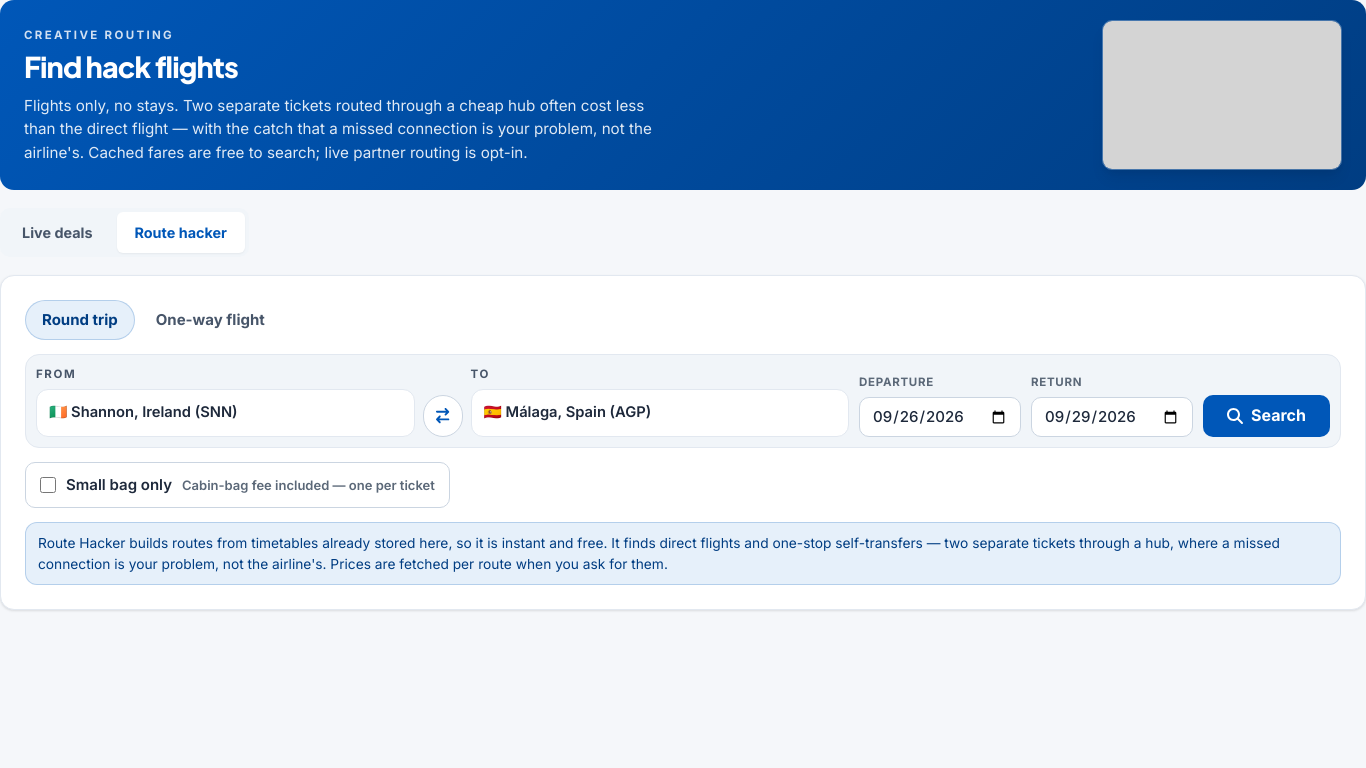
Hack Flights search controls › sends a city to Route hacker rather than pretending Live deals can read one
Click the tab "Live deals". click: [57, 232]
box: [4,212,110,253]
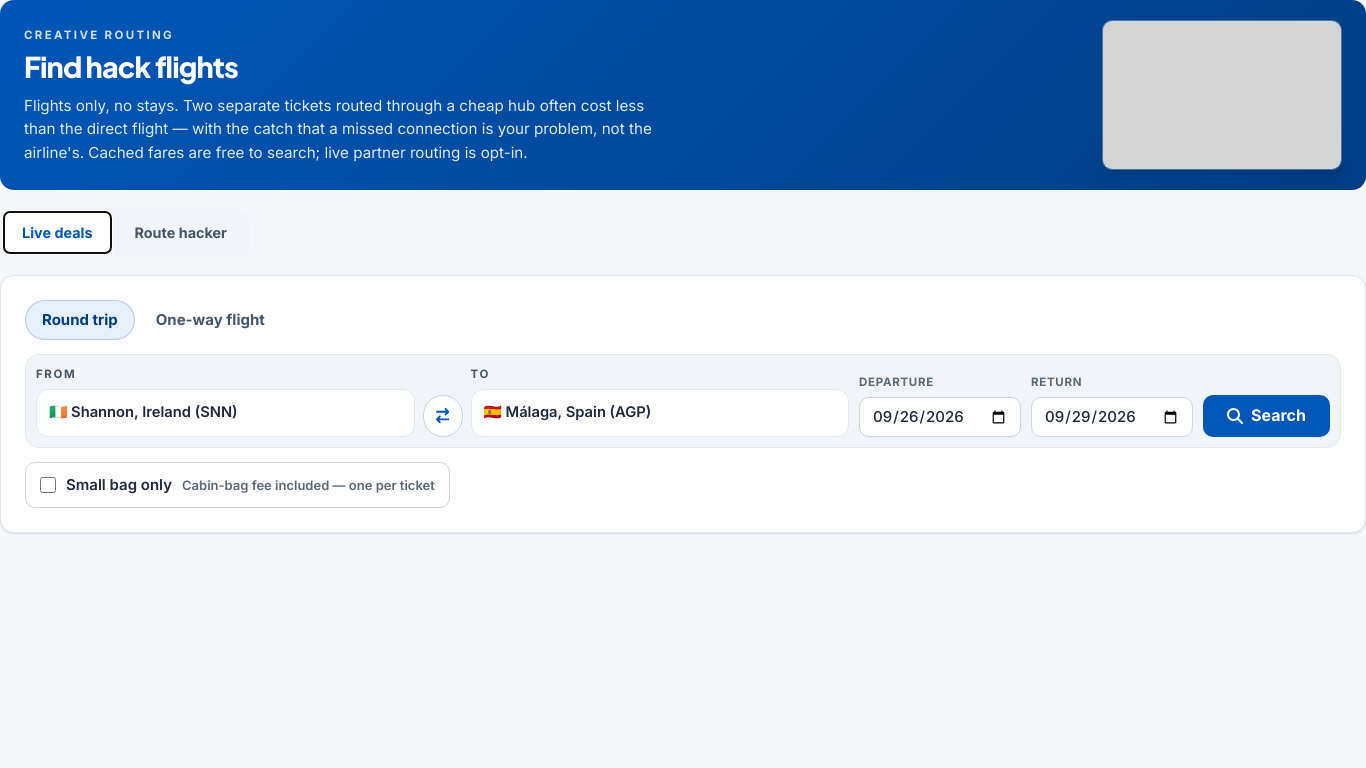
Type "Paris" into the dropdown labelled "To". click: [660, 413]
box: [470,390,849,437]
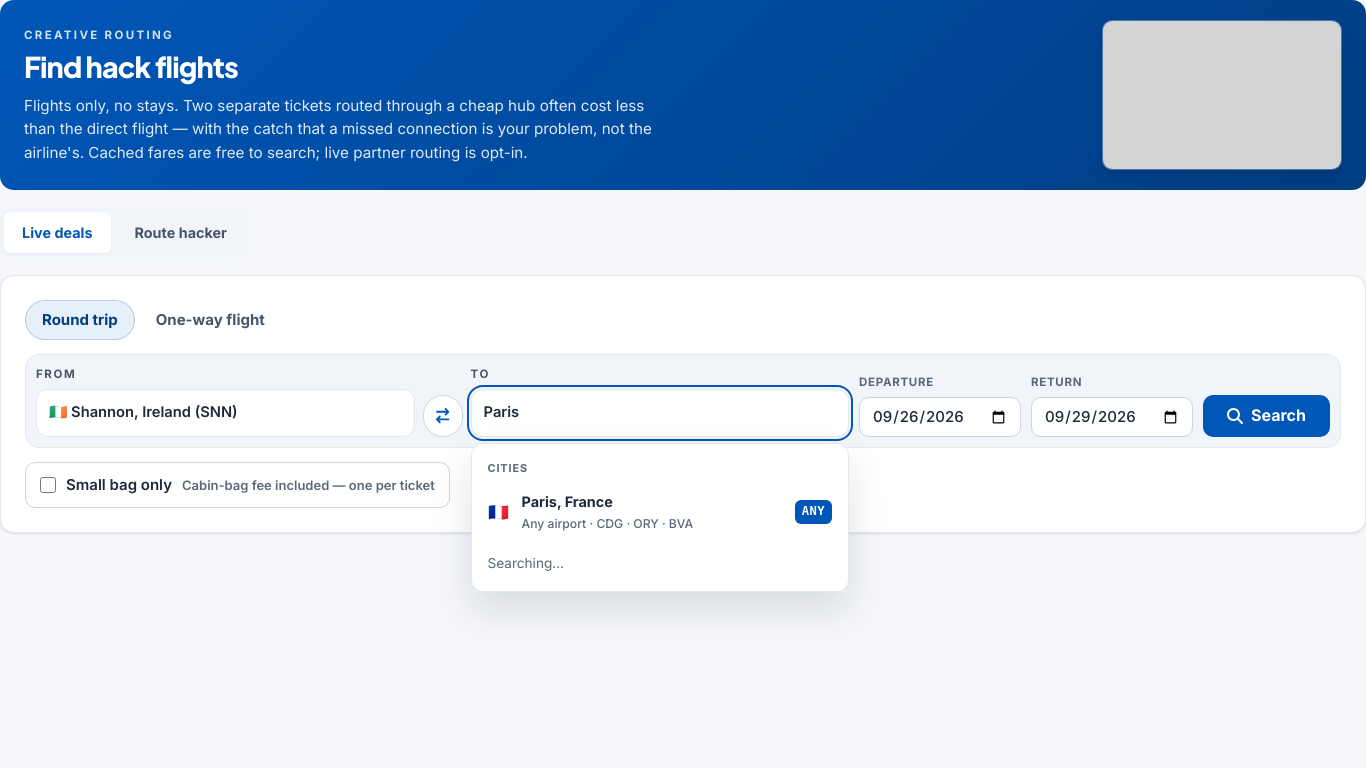
Click the option with aria-label "Paris — CDG, ORY, BVA". click: [539, 502]
box: [478,481,842,543]
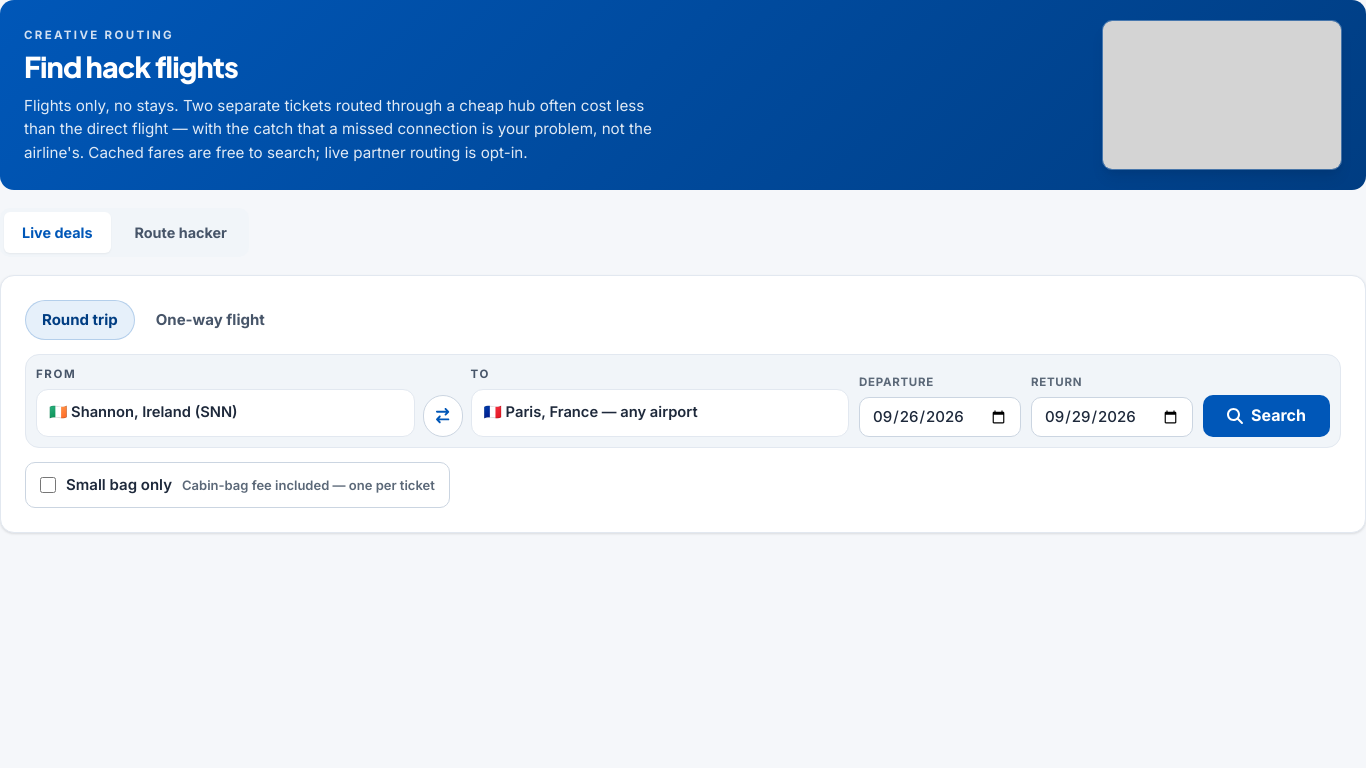
Click the button with aria-label "search cached fares". click: [1266, 416]
box: [1203,395,1330,437]
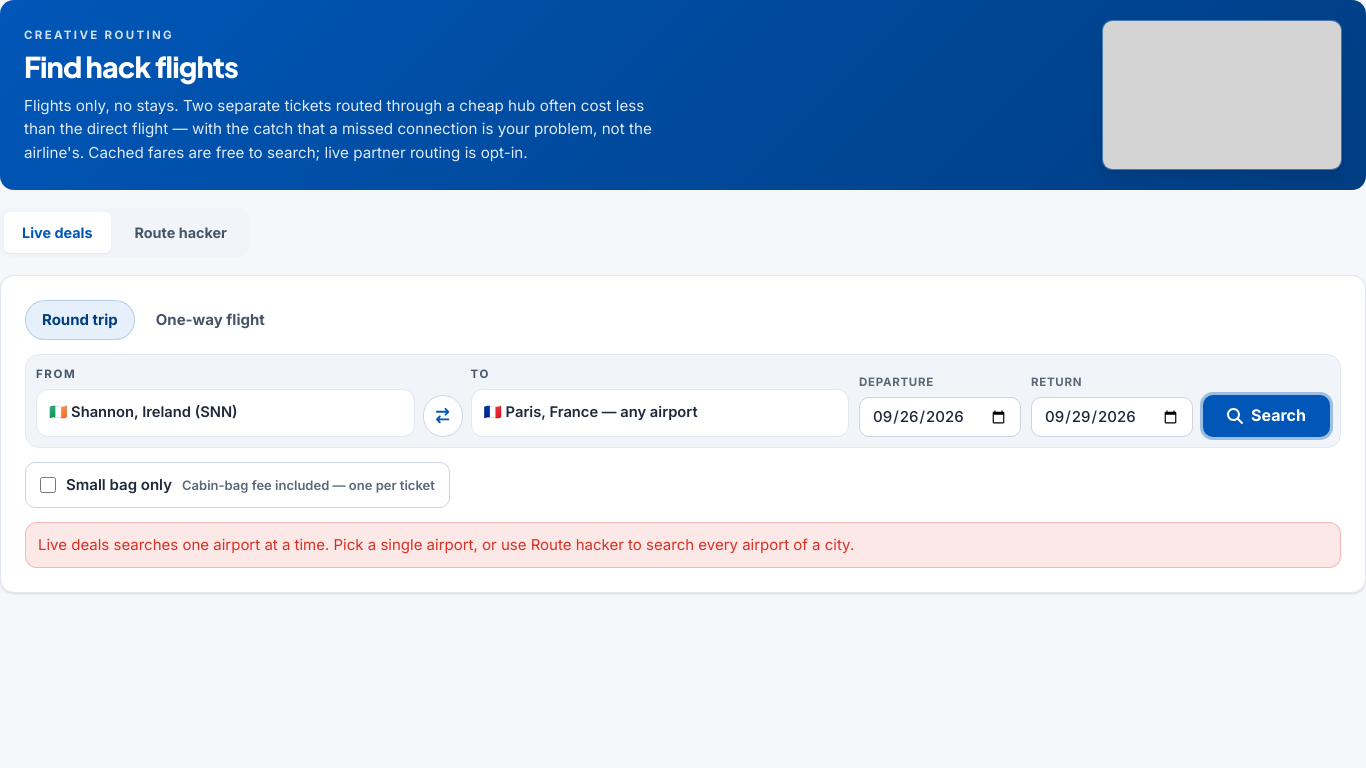
expect the message shows "Live deals searches one airport at a time": met, box [38,535,854,554]
